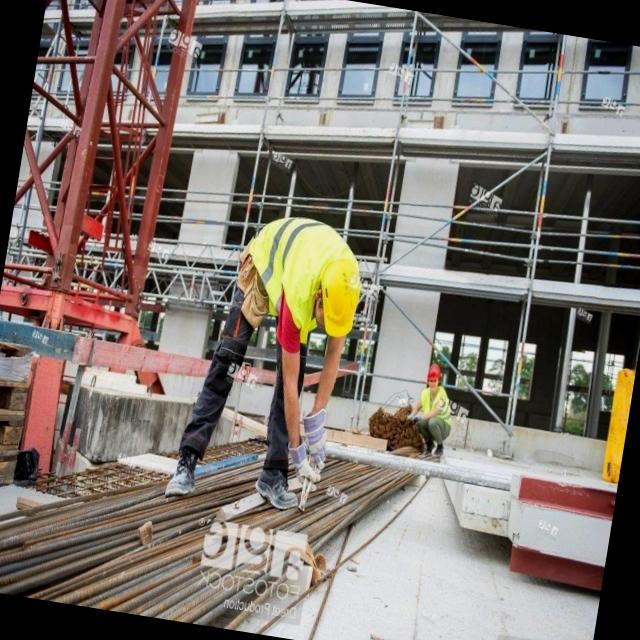helmet: (307, 244, 369, 346)
vest: (239, 209, 338, 330)
